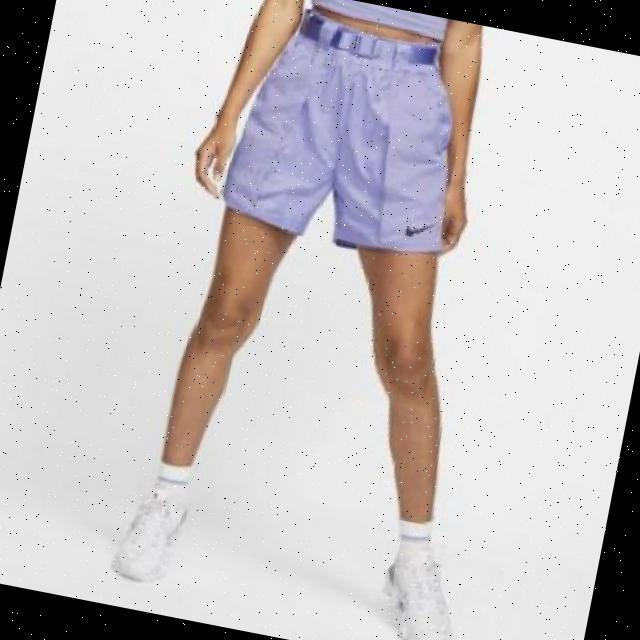Nike: (404, 217, 433, 238)
